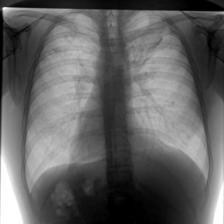tuberculosis: (13, 6, 224, 224)
